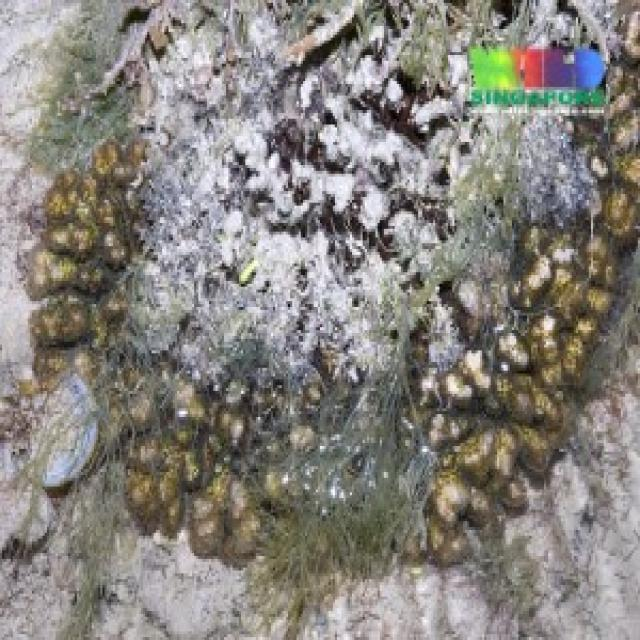Bleached: (150, 1, 620, 378)
Healthy: (130, 388, 579, 569), (30, 141, 148, 379), (515, 222, 640, 444)
